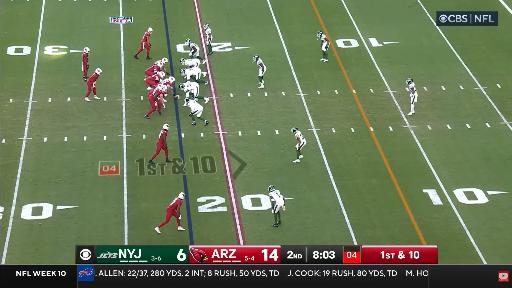Helmet: (178, 192, 185, 200), (161, 57, 169, 64), (317, 30, 323, 38), (158, 72, 165, 78), (168, 76, 174, 83), (268, 185, 275, 191), (95, 68, 102, 74), (178, 83, 184, 90), (406, 78, 413, 84), (158, 84, 164, 91), (292, 127, 298, 133), (84, 47, 90, 53), (163, 124, 169, 130), (180, 58, 185, 65), (180, 69, 185, 76), (204, 23, 209, 29), (158, 62, 163, 67), (254, 55, 259, 60), (186, 39, 191, 44), (185, 97, 190, 102), (148, 28, 152, 33), (164, 86, 167, 91)
Jersey: (184, 82, 199, 97), (269, 190, 284, 205), (185, 67, 201, 79), (168, 197, 182, 210), (150, 88, 165, 100), (187, 100, 202, 111), (320, 34, 329, 51), (295, 131, 305, 144), (148, 62, 162, 71), (158, 130, 167, 144), (88, 73, 99, 84), (185, 59, 200, 67), (256, 58, 266, 70), (189, 42, 199, 54), (205, 27, 212, 42), (409, 83, 417, 96), (159, 78, 172, 85), (141, 32, 150, 42), (146, 74, 161, 80), (82, 52, 88, 66), (320, 34, 328, 43), (154, 60, 163, 65)
Player: (155, 192, 185, 233), (149, 124, 170, 164), (145, 85, 167, 118), (268, 185, 285, 227), (179, 82, 209, 103), (185, 98, 208, 125), (85, 68, 102, 101), (134, 28, 152, 59), (180, 67, 208, 85), (292, 127, 306, 162), (186, 39, 205, 63), (253, 55, 266, 88), (406, 78, 417, 115), (317, 31, 329, 62), (145, 72, 165, 90), (204, 23, 213, 55), (82, 47, 90, 81), (154, 58, 169, 75), (145, 62, 163, 75), (159, 76, 174, 90), (180, 58, 200, 68)
